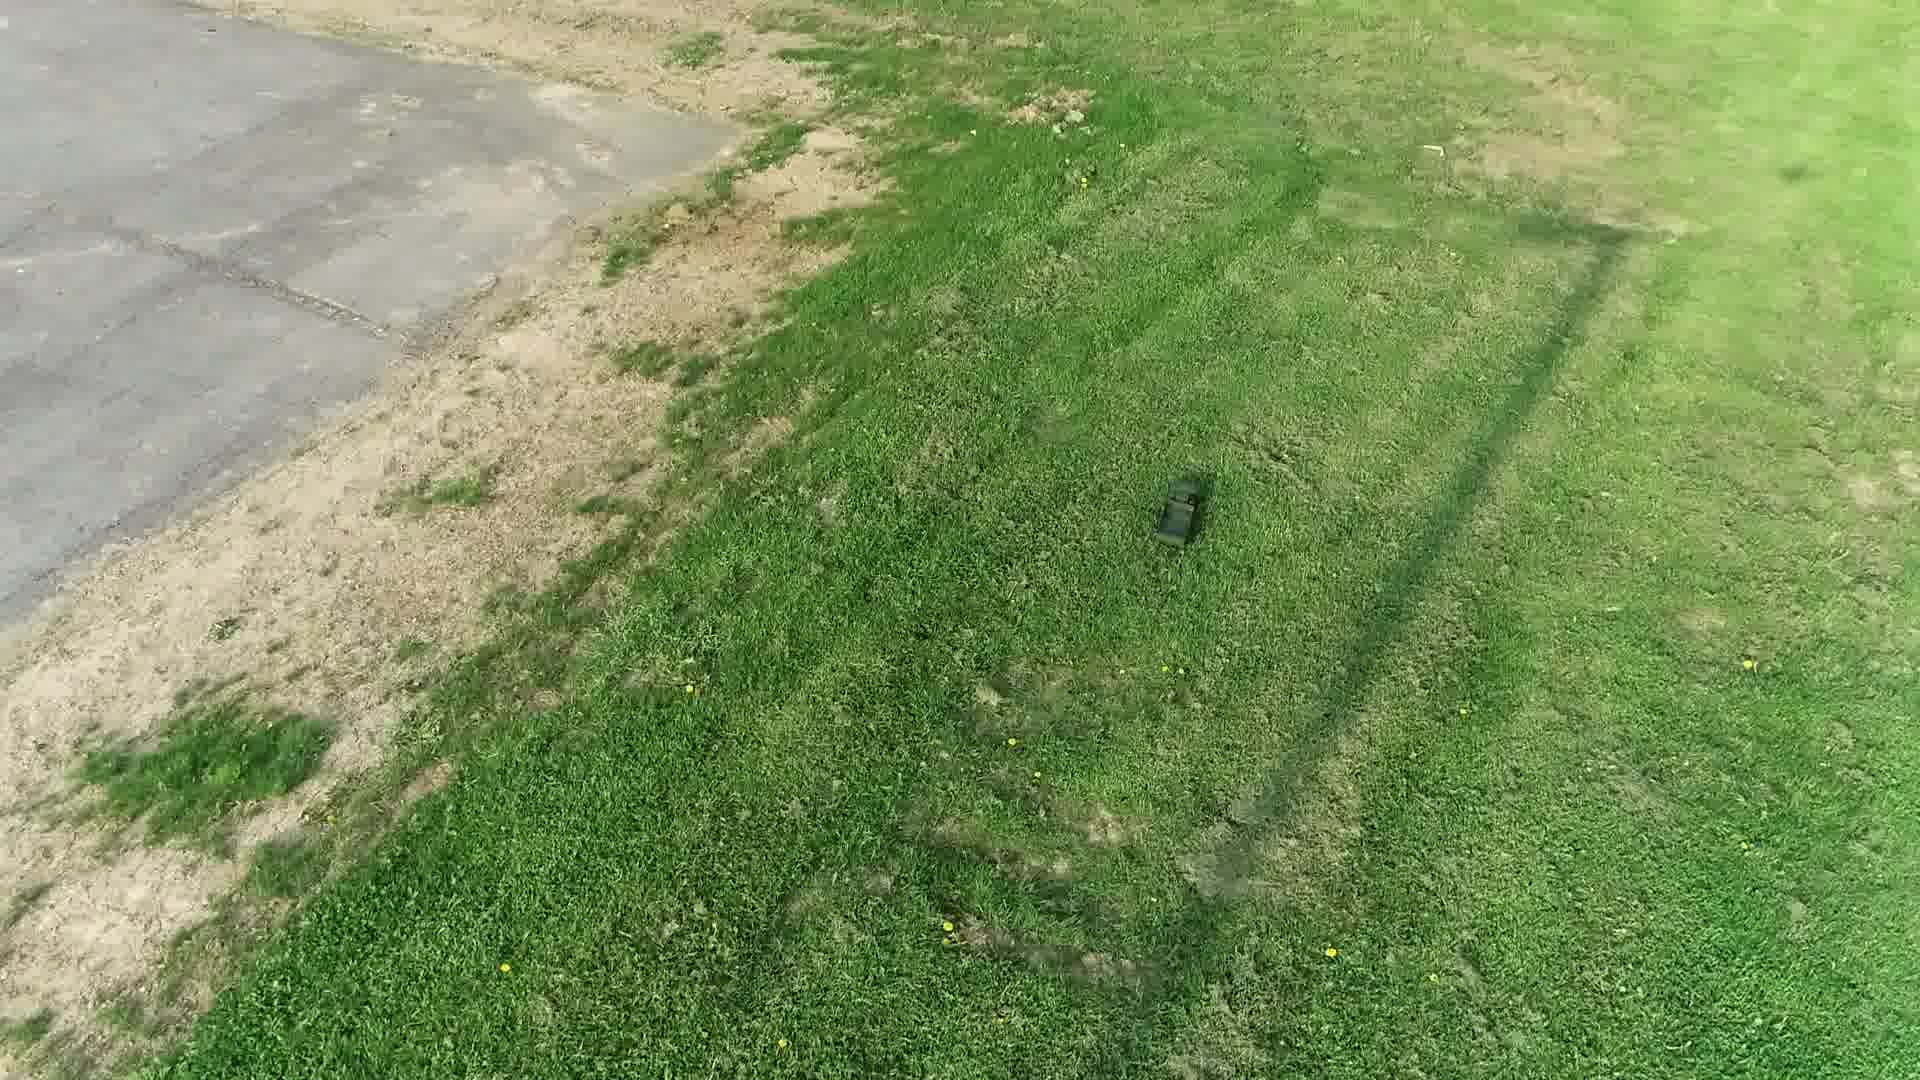transporter9: (1149, 483, 1207, 549)
